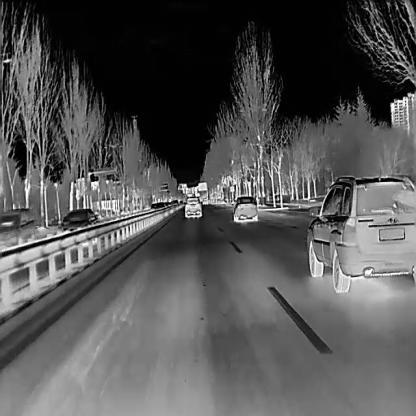car: (306, 173, 416, 293), (56, 207, 99, 242), (0, 206, 34, 246), (231, 194, 258, 221), (183, 196, 201, 216), (155, 201, 165, 213), (150, 202, 157, 212), (200, 197, 208, 205)
